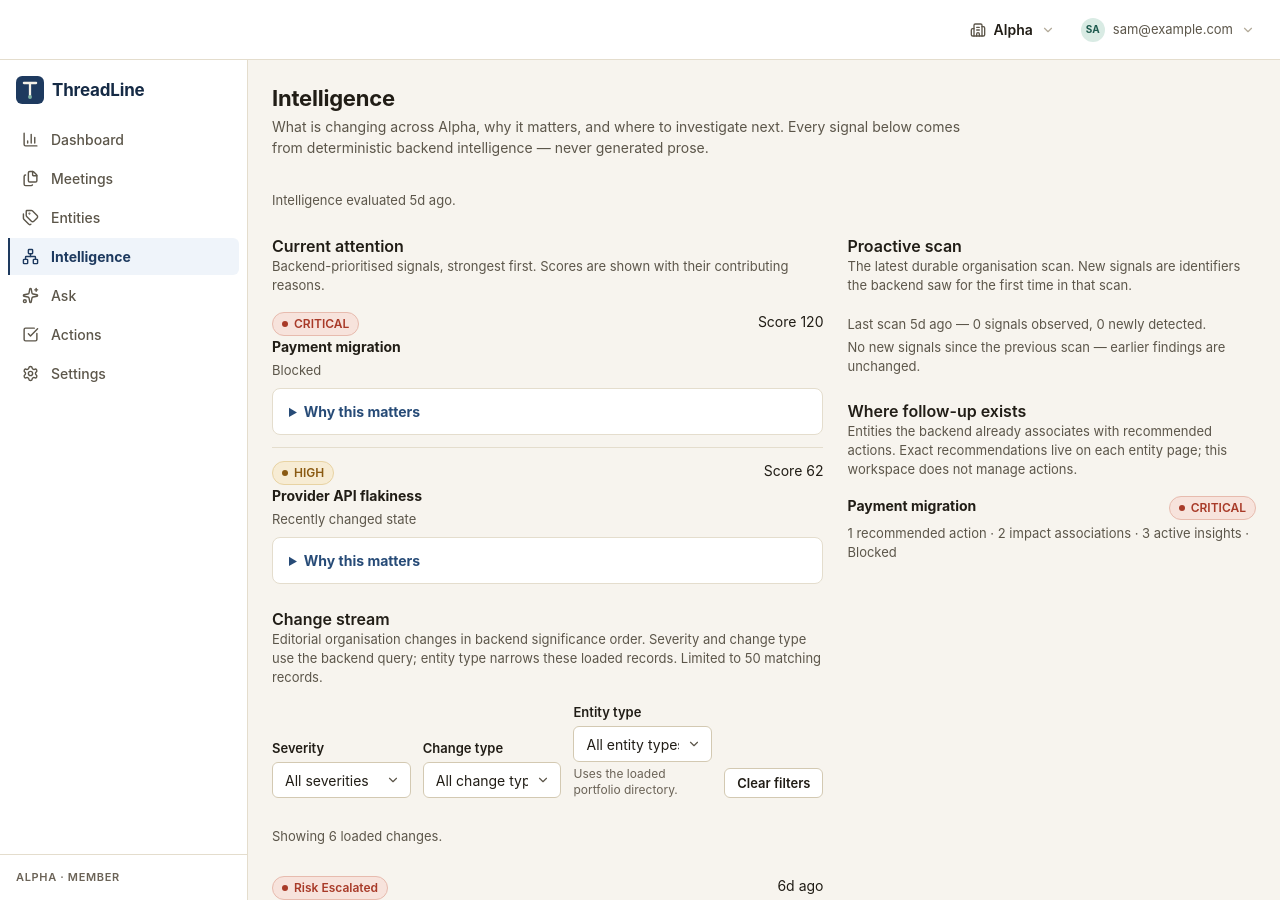
it: intelligence workspace › switches intelligence with the organisation
The width and height of the screenshot is (1280, 900).
Expected: the link "Payment migration" below "Current attention" is shown, [272,338,401,355]
Click the button with aria-label "switch organisation": (1012, 30) [970,21,1055,38]
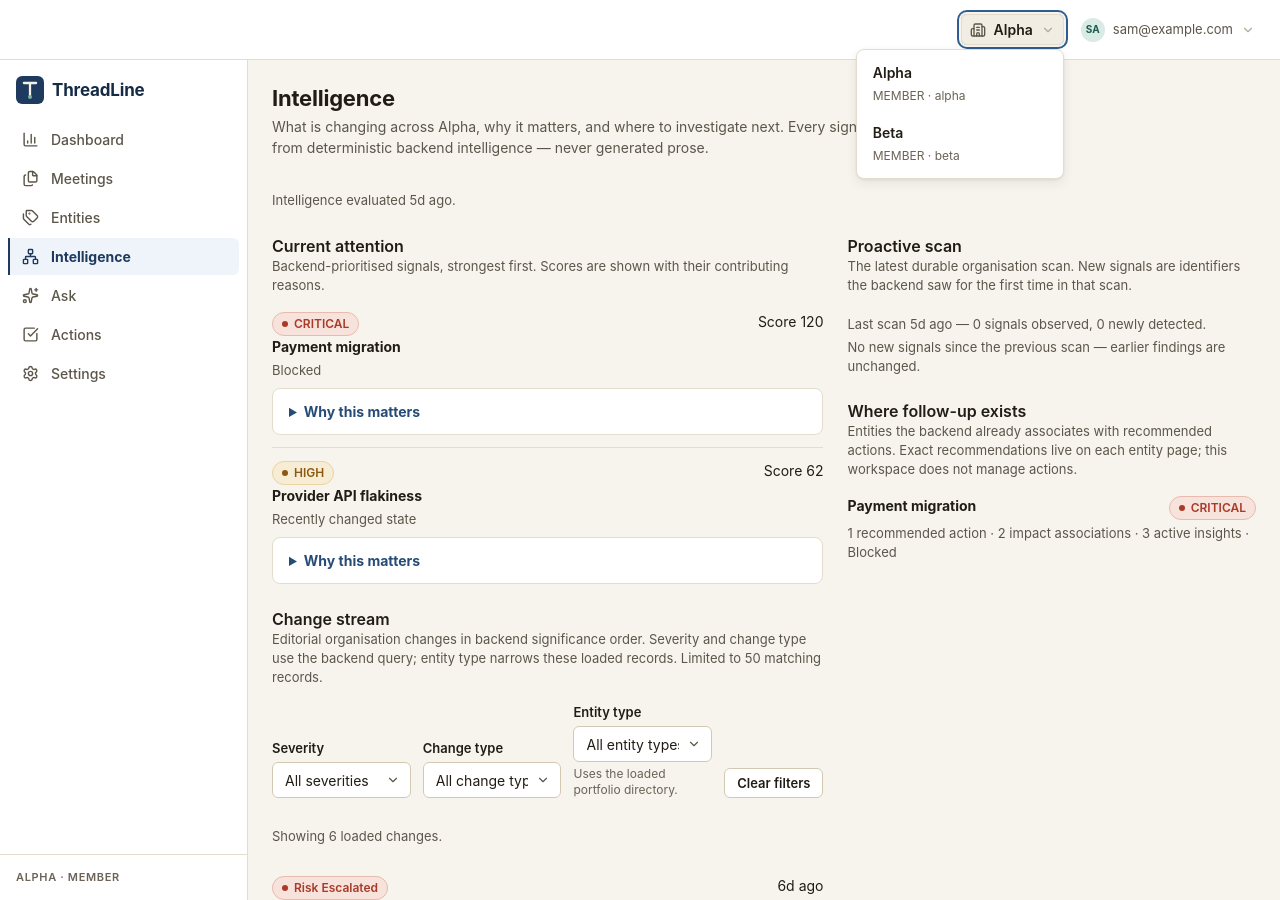
Click the menu item "Beta MEMBER · beta": (960, 144) [861,114,1059,174]
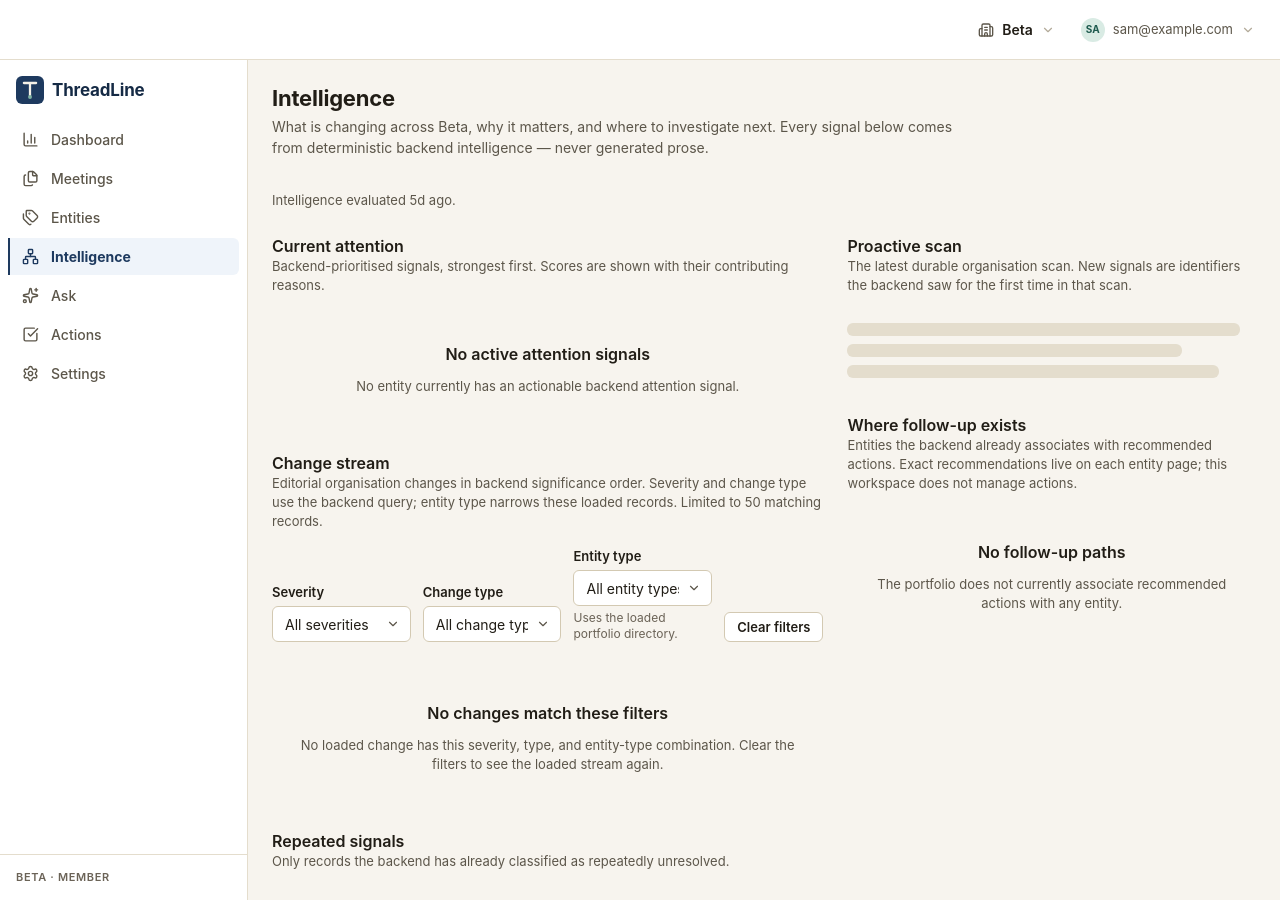
Now the heading "No active attention signals" is shown, box [445,343,650,365]
Now the link "Payment migration" is gone
Now the text "What is changing across Beta" is shown, box [272,118,952,156]
